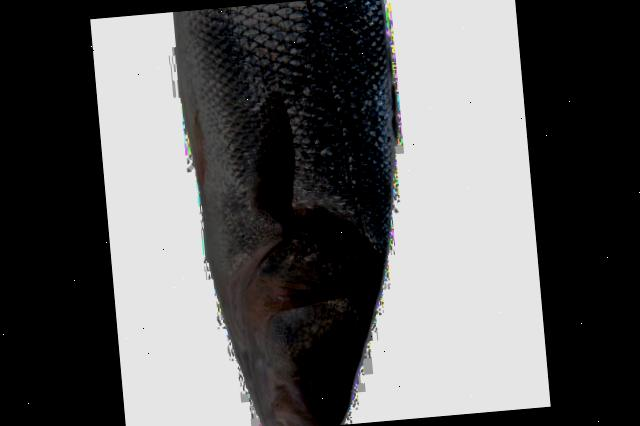Healthy Fish: (171, 0, 397, 426)
